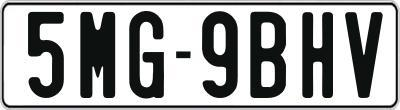5: (28, 9, 68, 96)
9: (199, 8, 237, 97)
B: (247, 10, 288, 101)
G: (127, 8, 166, 100)
H: (300, 12, 332, 98)
M: (80, 10, 115, 96)
V: (342, 9, 385, 95)
